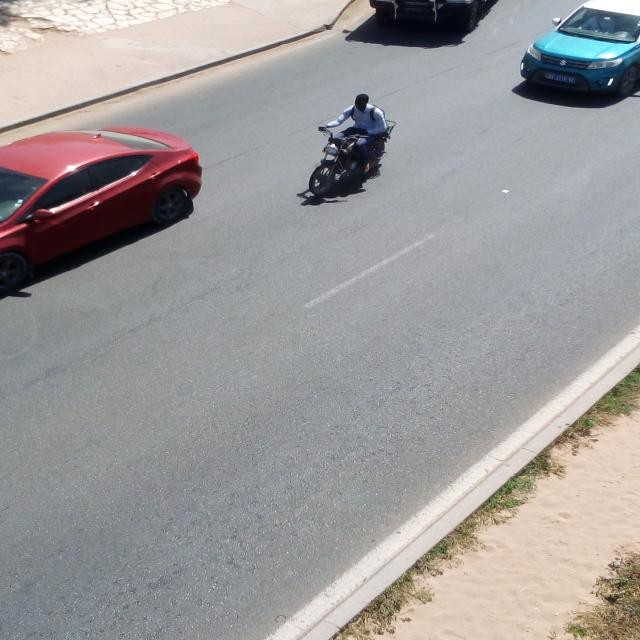moto: (309, 131, 368, 197)
particulier: (1, 127, 203, 292), (521, 1, 640, 97)
